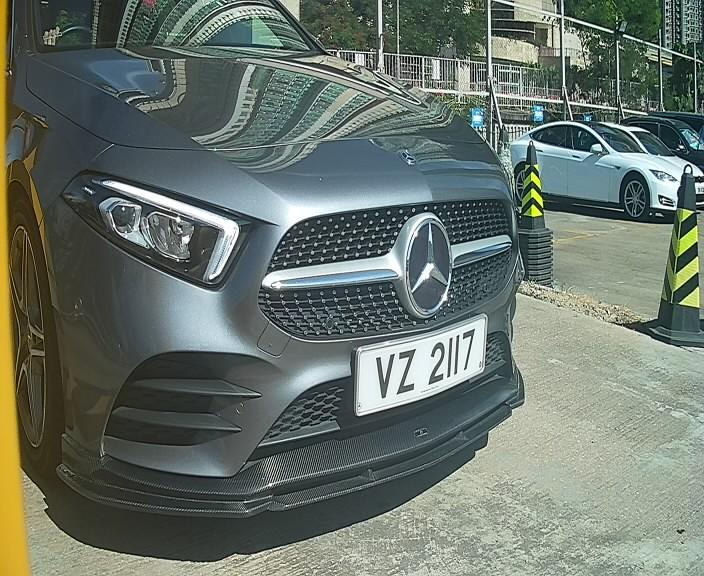License Plate: (356, 314, 491, 415)
